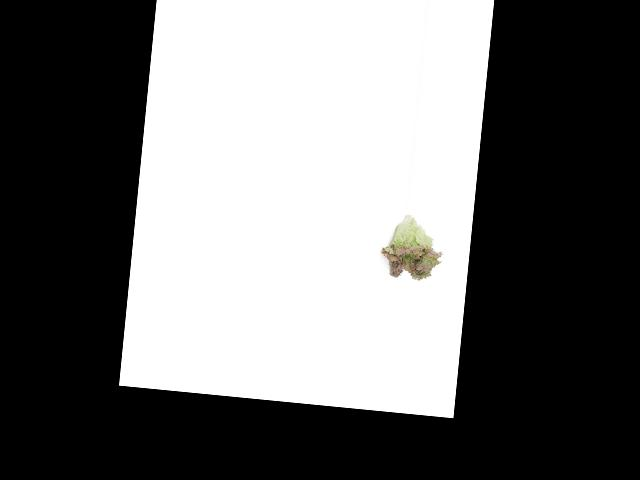lettuce: (372, 210, 448, 290)
